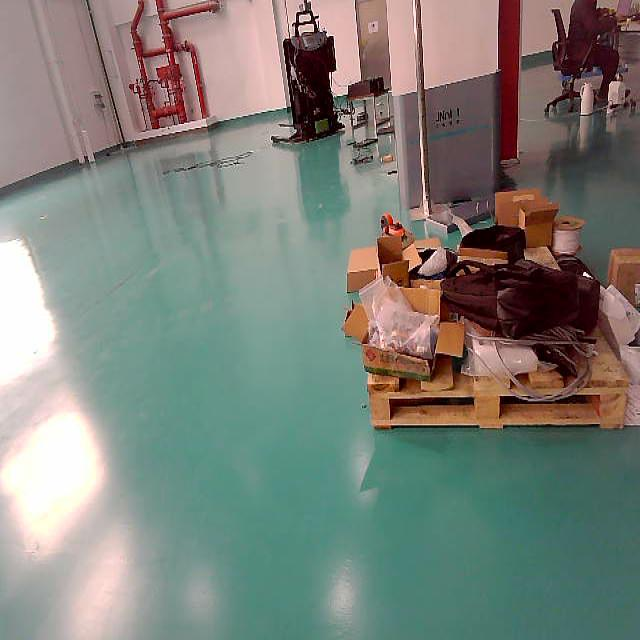euro: (351, 339, 638, 453)
